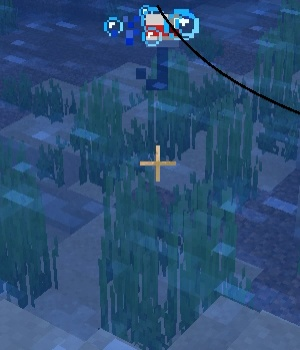up: (131, 12, 187, 90)
